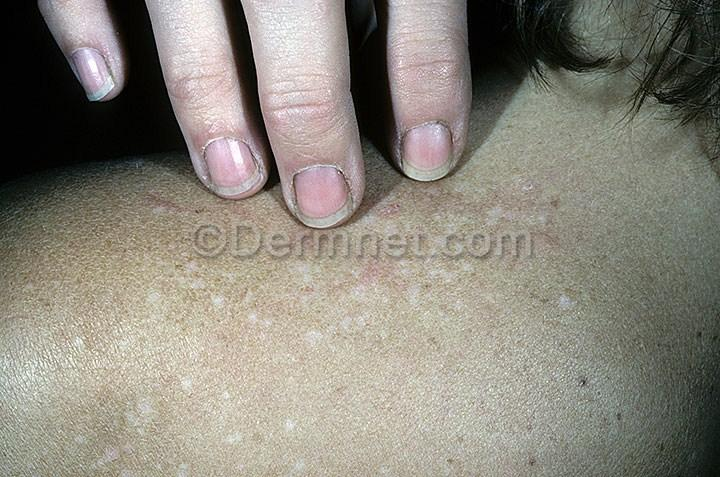Eczema: (480, 258, 560, 332), (513, 182, 582, 267), (352, 249, 439, 303), (304, 251, 375, 316), (239, 282, 312, 345), (441, 193, 510, 257), (141, 185, 205, 240), (370, 186, 431, 236), (222, 200, 269, 243)
